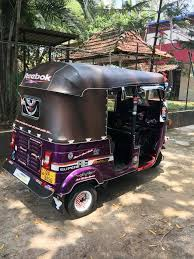tuk tuk: (3, 62, 171, 221)
